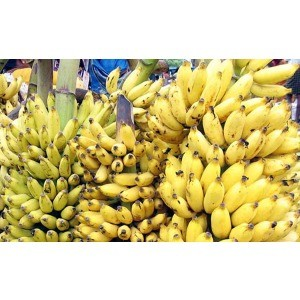banana_brain food: (164, 96, 270, 215), (8, 118, 90, 232)
